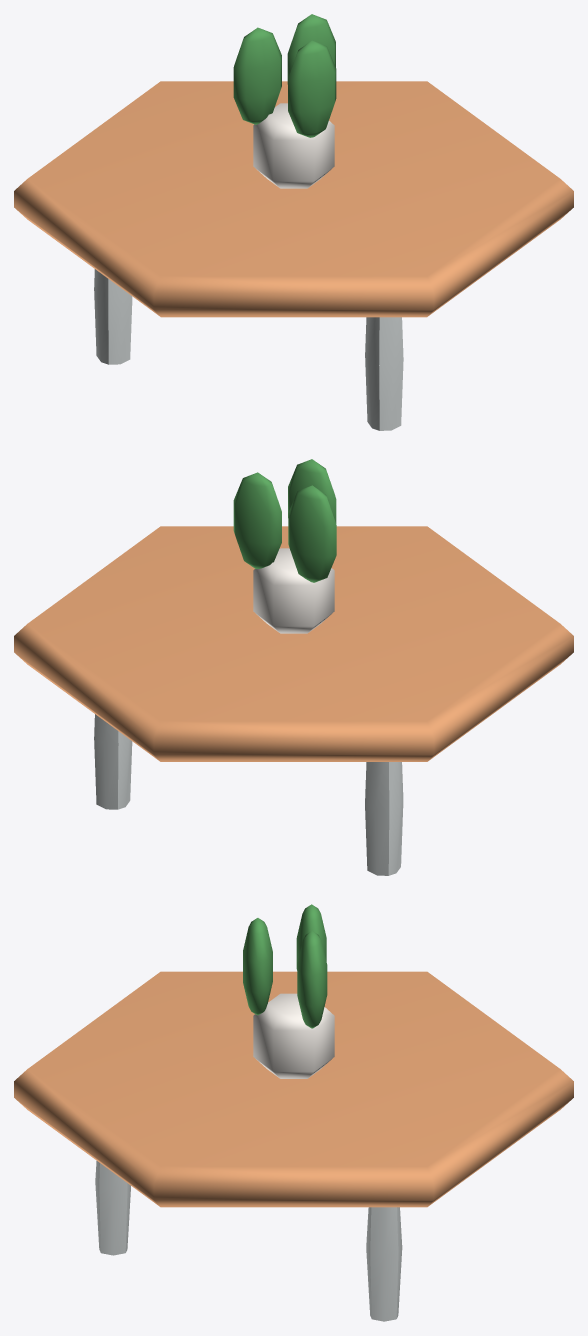
File: lounge-table.glb
The picture shows the model from 3 angles, top to bottom: view 1: azimuth 30°, elevation 25°; view 2: azimuth 150°, elevation 25°; view 3: azimuth 270°, elevation 25°; orthographic projection.
Parts seen in each view (by area): view 1: part (×4), detail (×3); view 2: part (×4), detail (×3); view 3: part (×4), detail (×3).
Part boxes in pixels (<box>): part (×4): <box>14,81,573,430</box>; detail (×3): <box>233,14,336,137</box>; part (×4): <box>14,526,573,875</box>; detail (×3): <box>233,459,336,582</box>; part (×4): <box>14,971,573,1321</box>; detail (×3): <box>243,904,327,1028</box>.
Bounding box in the file's own units: 1.07 × 0.82 × 1.24.
Materials: 1 (1 with a texture image).
